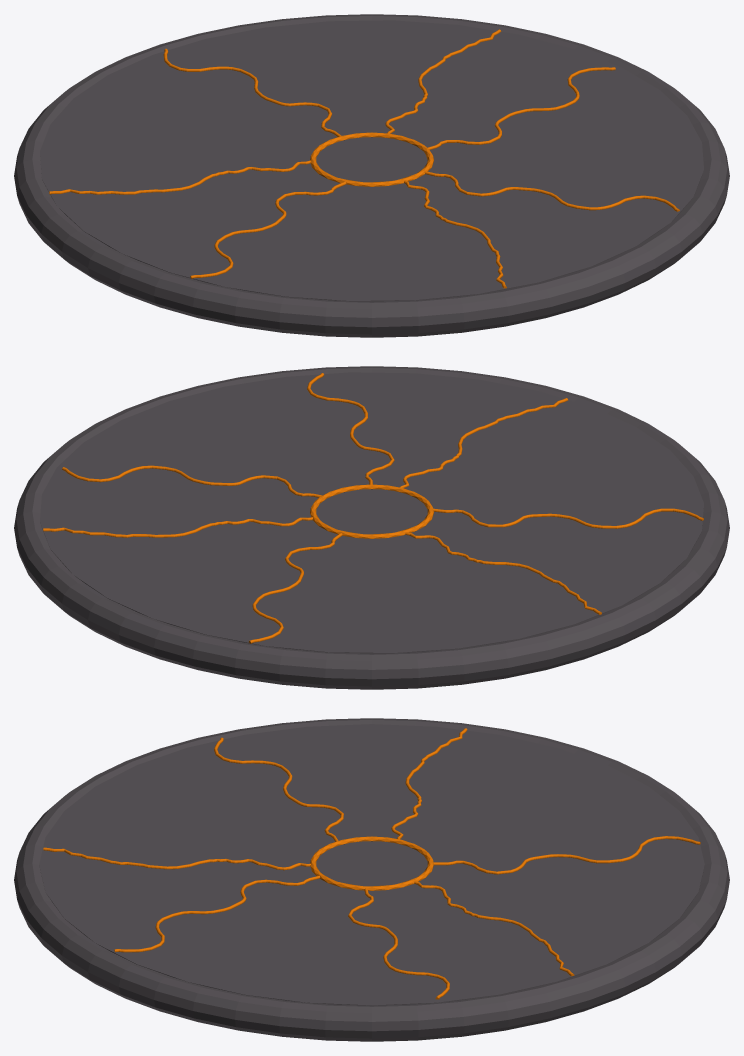
Rendered from Plataforma.fbx.
The picture shows the model from 3 angles, top to bottom: view 1: azimuth 30°, elevation 25°; view 2: azimuth 150°, elevation 25°; view 3: azimuth 270°, elevation 25°; orthographic projection.
Visible parts, largest first — view 1: Cylinder, Torus.002, Torus.001, Cylinder.004, Cylinder.002, Cylinder.010, Cylinder.001, Cylinder.007, Cylinder.005, Cylinder.008; view 2: Cylinder, Torus.002, Torus.001, Cylinder.007, Cylinder.010, Cylinder.005, Cylinder.001, Cylinder.002, Cylinder.004, Cylinder.008; view 3: Cylinder, Torus.002, Torus.001, Cylinder.001, Cylinder.008, Cylinder.004, Cylinder.007, Cylinder.010, Cylinder.005, Cylinder.002.
Boxes of the visible parts, x1,y1,x2,y2 form: Cylinder: [40, 20, 703, 301]; Torus.002: [14, 14, 729, 337]; Torus.001: [310, 132, 433, 186]; Cylinder.004: [424, 171, 679, 211]; Cylinder.002: [49, 160, 310, 194]; Cylinder.010: [427, 67, 615, 149]; Cylinder.001: [163, 48, 341, 136]; Cylinder.007: [190, 181, 346, 278]; Cylinder.005: [385, 29, 501, 133]; Cylinder.008: [404, 180, 506, 288]; Cylinder: [40, 372, 703, 653]; Torus.002: [14, 366, 729, 689]; Torus.001: [310, 484, 433, 538]; Cylinder.007: [433, 508, 703, 528]; Cylinder.010: [62, 465, 322, 497]; Cylinder.005: [43, 517, 313, 537]; Cylinder.001: [249, 533, 342, 643]; Cylinder.002: [405, 532, 601, 614]; Cylinder.004: [307, 373, 394, 484]; Cylinder.008: [400, 398, 568, 488]; Cylinder: [39, 724, 704, 1005]; Torus.002: [14, 718, 729, 1041]; Torus.001: [310, 836, 433, 890]; Cylinder.001: [433, 836, 700, 874]; Cylinder.008: [43, 847, 310, 870]; Cylinder.004: [114, 875, 319, 952]; Cylinder.007: [214, 737, 343, 841]; Cylinder.010: [348, 888, 449, 999]; Cylinder.005: [414, 881, 574, 976]; Cylinder.002: [391, 728, 467, 839].
Size of the model in its own units: 1350 by 72.76 by 1350.
